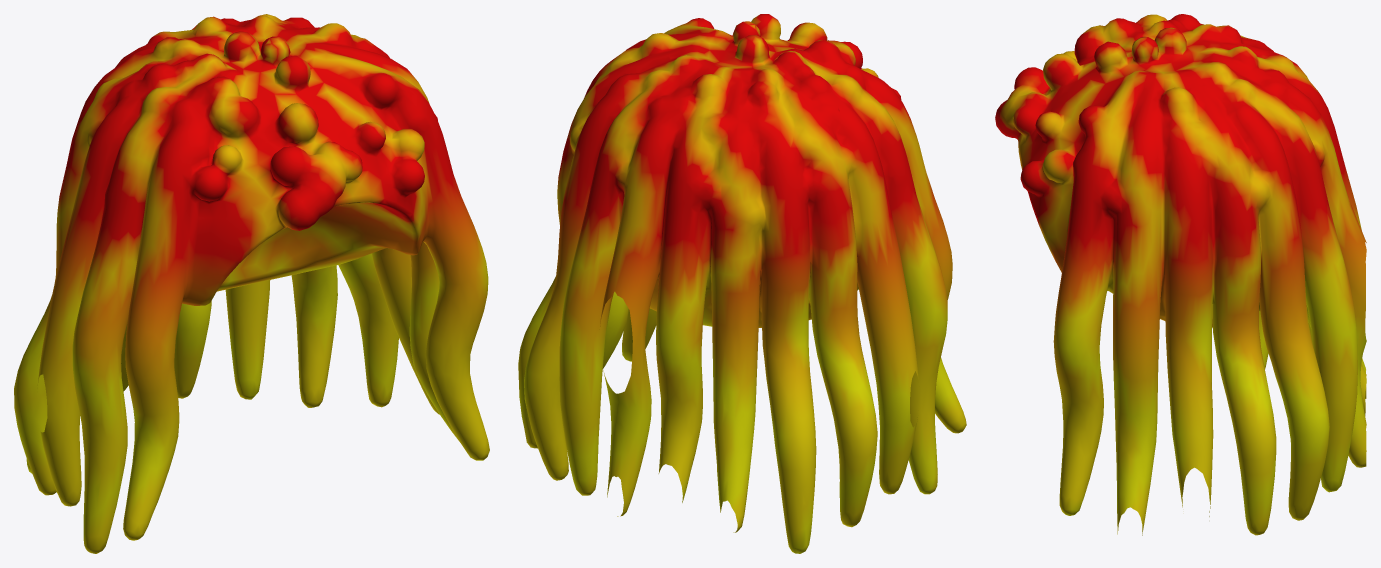
File: long-curly.glb
3 views of the same model, side by side, from view 1: azimuth 30°, elevation 25°; view 2: azimuth 150°, elevation 25°; view 3: azimuth 270°, elevation 25° (orthographic). The views are drawn at different scales.
Visible parts, largest first — view 1: part; view 2: part; view 3: part.
Part boxes in pixels (left/top/right/bottom): part: left=14, top=14, right=489, bottom=553; part: left=518, top=14, right=966, bottom=553; part: left=995, top=14, right=1366, bottom=535.
Bounding box in the file's own units: 2.99 × 3.34 × 2.59.
